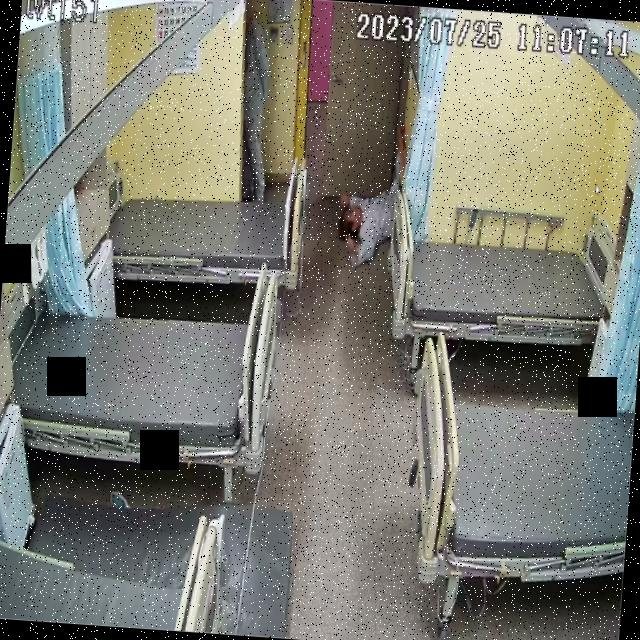bed: (402, 331, 639, 591), (5, 296, 278, 466), (381, 218, 623, 352), (108, 178, 303, 289)
fall: (338, 175, 402, 266)
patient: (235, 0, 283, 201), (336, 172, 402, 269)
stand: (233, 0, 282, 200)
